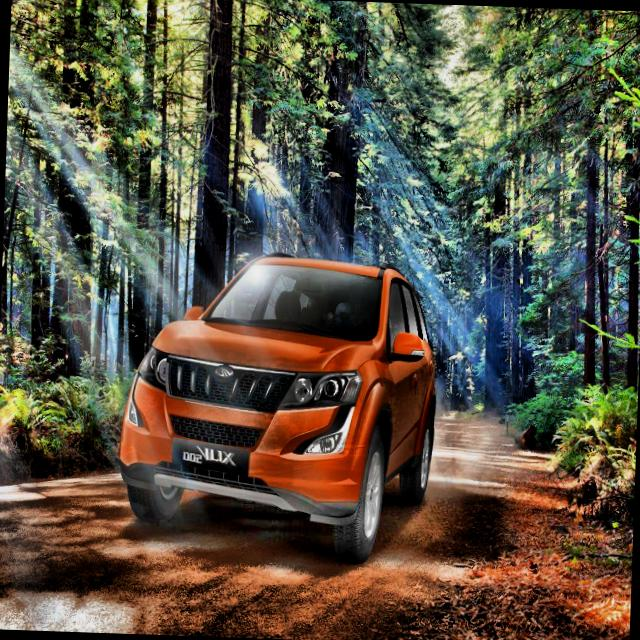Car: (117, 250, 440, 564)
